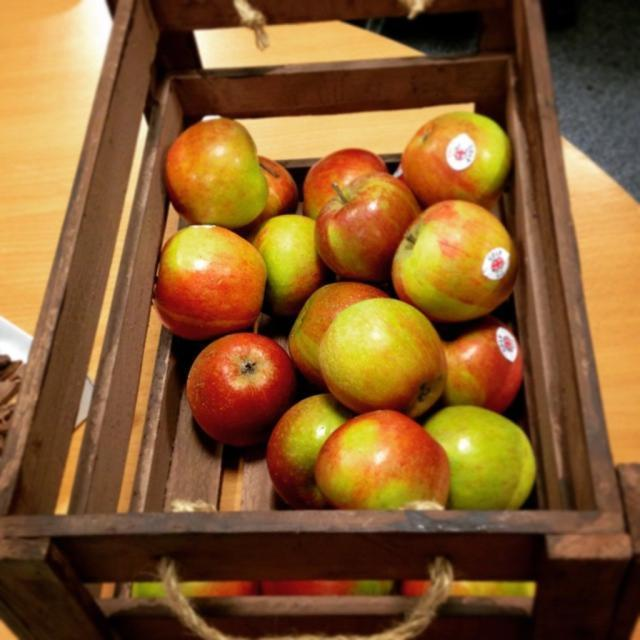Apple: (391, 200, 519, 322), (318, 297, 447, 417), (314, 410, 451, 510), (152, 223, 268, 339), (186, 331, 295, 447), (422, 404, 536, 510), (164, 115, 268, 228), (314, 171, 420, 281), (400, 110, 512, 210), (266, 392, 356, 508), (249, 213, 329, 317), (441, 316, 524, 413), (307, 147, 385, 215), (253, 156, 304, 218)
